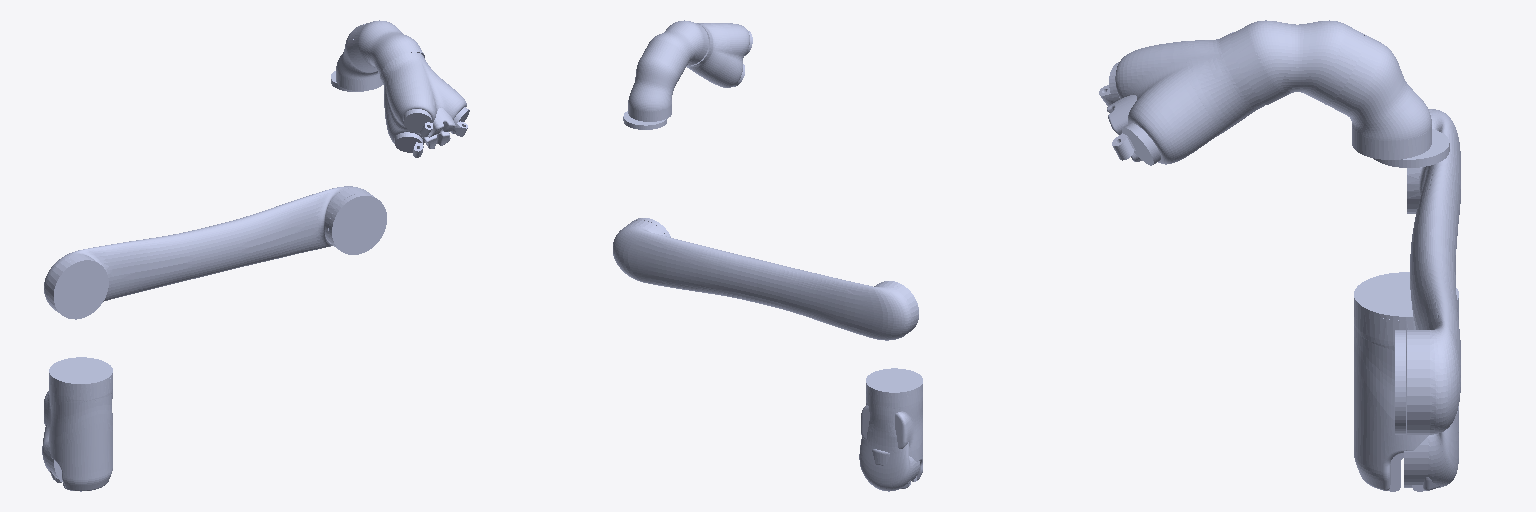
robot.urdf — jaco:
<?xml version="1.0" ?>
<!-- =================================================================================== -->
<!-- |    This document was autogenerated by xacro from standalone_jaco2.xacro         | -->
<!-- |    EDITING THIS FILE BY HAND IS NOT RECOMMENDED                                 | -->
<!-- =================================================================================== -->
<robot name="jaco" xmlns:body="http://playerstage.sourceforge.net/gazebo/xmlschema/#body" xmlns:controller="http://playerstage.sourceforge.net/gazebo/xmlschema/#controller" xmlns:gazebo="http://playerstage.sourceforge.net/gazebo/xmlschema/#gz" xmlns:geom="http://playerstage.sourceforge.net/gazebo/xmlschema/#geom" xmlns:interface="http://playerstage.sourceforge.net/gazebo/xmlschema/#interface" xmlns:joint="http://playerstage.sourceforge.net/gazebo/xmlschema/#joint" xmlns:model="http://playerstage.sourceforge.net/gazebo/xmlschema/#model" xmlns:physics="http://playerstage.sourceforge.net/gazebo/xmlschema/#physics" xmlns:renderable="http://playerstage.sourceforge.net/gazebo/xmlschema/#renderable" xmlns:rendering="http://playerstage.sourceforge.net/gazebo/xmlschema/#rendering" xmlns:sensor="http://playerstage.sourceforge.net/gazebo/xmlschema/#sensor" xmlns:xacro="http://ros.org/wiki/xacro" xmlns:xi="http://www.w3.org/2001/XInclude">
  <link name="root">
    <visual>
      <origin rpy="0 0 0" xyz="0 0 0"/>
      <geometry>
        <box size="0 0 0"/>
        <!--making it slightly bigger in x and z direction-->
      </geometry>
      <!--<material name="Black" /> -->
    </visual>
    <collision>
      <origin rpy="0 0 0" xyz="0 0 0"/>
      <geometry>
        <box size="0 0 0"/>
        <!--making it slightly bigger in x and z direction-->
      </geometry>
    </collision>
  </link>
  <link name="jaco2_link_base">
    <visual>
      <geometry>
        <mesh filename="package://kinova_description/meshes/jaco2_link_base.dae"/>
      </geometry>
      <material name="carbon_fiber">
        <color rgba="0.792156862745098 0.819607843137255 0.933333333333333 1"/>
      </material>
    </visual>
    <collision>
      <geometry>
        <mesh filename="package://kinova_description/meshes/jaco2_link_base.dae"/>
      </geometry>
    </collision>
  </link>
  <joint name="jaco2_joint_base" type="fixed">
    <parent link="root"/>
    <child link="jaco2_link_base"/>
    <axis xyz="0 0 0"/>
    <limit effort="30" lower="0" upper="0" velocity="0.35"/>
    <origin rpy="0 0 0" xyz="0 0 0"/>
  </joint>
  <link name="jaco2_link_1">
    <visual>
      <geometry>
        <mesh filename="package://kinova_description/meshes/jaco2_link_1.dae"/>
      </geometry>
      <material name="carbon_fiber">
        <color rgba="0.792156862745098 0.819607843137255 0.933333333333333 1"/>
      </material>
    </visual>
    <collision>
      <geometry>
        <mesh filename="package://kinova_description/meshes/jaco2_link_1.dae"/>
      </geometry>
    </collision>
  </link>
  <joint name="jaco2_joint_1" type="continuous">
    <parent link="jaco2_link_base"/>
    <child link="jaco2_link_1"/>
    <axis xyz="0 0 -1"/>
    <limit effort="30" lower="-6.28318530718" upper="6.28318530718" velocity="0.35"/>
    <origin rpy="0 0 0" xyz="0 0 0.1535"/>
  </joint>
  <link name="jaco2_link_2">
    <visual>
      <geometry>
        <mesh filename="package://kinova_description/meshes/jaco2_link_2.dae"/>
      </geometry>
      <material name="carbon_fiber">
        <color rgba="0.792156862745098 0.819607843137255 0.933333333333333 1"/>
      </material>
    </visual>
    <collision>
      <geometry>
        <mesh filename="package://kinova_description/meshes/jaco2_link_2.dae"/>
      </geometry>
    </collision>
  </link>
  <joint name="jaco2_joint_2" type="revolute">
    <parent link="jaco2_link_1"/>
    <child link="jaco2_link_2"/>
    <axis xyz="0 0 1"/>
    <limit effort="30" lower="-3.14159265359" upper="0.0" velocity="0.35"/>
    <origin rpy="1.57079632679 0 0" xyz="0 0 0.1185"/>
  </joint>
  <link name="jaco2_link_3">
    <visual>
      <geometry>
        <mesh filename="package://kinova_description/meshes/jaco2_link_3.dae"/>
      </geometry>
      <material name="carbon_fiber">
        <color rgba="0.792156862745098 0.819607843137255 0.933333333333333 1"/>
      </material>
    </visual>
    <collision>
      <geometry>
        <mesh filename="package://kinova_description/meshes/jaco2_link_3.dae"/>
      </geometry>
    </collision>
  </link>
  <joint name="jaco2_joint_3" type="revolute">
    <parent link="jaco2_link_2"/>
    <child link="jaco2_link_3"/>
    <axis xyz="0 0 -1"/>
    <limit effort="30" lower="-3.92699081699" upper="0.785398163397" velocity="0.35"/>
    <origin rpy="3.14159265359 0 1.57079632679" xyz="0.41 0 0"/>
  </joint>
  <link name="jaco2_link_4">
    <visual>
      <geometry>
        <mesh filename="package://kinova_description/meshes/jaco2_link_4.dae"/>
      </geometry>
      <material name="carbon_fiber">
        <color rgba="0.792156862745098 0.819607843137255 0.933333333333333 1"/>
      </material>
    </visual>
    <collision>
      <geometry>
        <mesh filename="package://kinova_description/meshes/jaco2_link_4.dae"/>
      </geometry>
    </collision>
  </link>
  <joint name="jaco2_joint_4" type="continuous">
    <parent link="jaco2_link_3"/>
    <child link="jaco2_link_4"/>
    <axis xyz="0 0 -1"/>
    <limit effort="30" lower="-6.28318530718" upper="6.28318530718" velocity="0.35"/>
    <origin rpy="3.14159265359 1.57079632679 0" xyz="0.207 0 -0.01125"/>
  </joint>
  <link name="jaco2_link_5">
    <visual>
      <geometry>
        <mesh filename="package://kinova_description/meshes/jaco2_link_5.dae"/>
      </geometry>
      <material name="carbon_fiber">
        <color rgba="0.792156862745098 0.819607843137255 0.933333333333333 1"/>
      </material>
    </visual>
    <collision>
      <geometry>
        <mesh filename="package://kinova_description/meshes/jaco2_link_5.dae"/>
      </geometry>
    </collision>
  </link>
  <joint name="jaco2_joint_5" type="continuous">
    <parent link="jaco2_link_4"/>
    <child link="jaco2_link_5"/>
    <axis xyz="0 0 -1"/>
    <limit effort="30" lower="-6.28318530718" upper="6.28318530718" velocity="0.35"/>
    <origin rpy="0 -1.0471975512 0" xyz="0.03700 0 -0.06408"/>
  </joint>
  <link name="jaco2_link_hand">
    <visual>
      <geometry>
        <mesh filename="package://kinova_description/meshes/jaco2_link_hand.dae"/>
      </geometry>
      <material name="carbon_fiber">
        <color rgba="0.792156862745098 0.819607843137255 0.933333333333333 1"/>
      </material>
    </visual>
    <collision>
      <geometry>
        <mesh filename="package://kinova_description/meshes/jaco2_link_hand.dae"/>
      </geometry>
    </collision>
  </link>
  <joint name="jaco2_joint_6" type="continuous">
    <parent link="jaco2_link_5"/>
    <child link="jaco2_link_hand"/>
    <axis xyz="0 0 -1"/>
    <limit effort="30" lower="-6.28318530718" upper="6.28318530718" velocity="0.35"/>
    <origin rpy="-1.0471975512 0 1.57079632679" xyz="0.03700 0 -0.06408"/>
  </joint>
  <joint name="jaco2_link_base_to_api_origin" type="fixed">
    <parent link="jaco2_link_base"/>
    <child link="jaco2_api_origin"/>
    <origin rpy="0 0 0" xyz="0 0 0.028"/>
  </joint>
  <link name="jaco2_api_origin">
    <!--
         <visual>
           <geometry>
             <box xyz="0 0 0" size="0.1 0.1 0.1"/>
           </geometry>
         </visual>
         <collision>
           <geometry>
             <box xyz="0 0 0" size="0.1 0.1 0.1"/>
           </geometry>
         </collision>
         -->
  </link>
  <joint name="jaco2_link_hand_to_end_effector" type="fixed">
    <parent link="jaco2_link_hand"/>
    <child link="jaco2_end_effector"/>
    <origin rpy="0 3.14159265359 0" xyz="0 0 -0.1687"/>
  </joint>
  <link name="jaco2_end_effector"/>
  <link name="jaco2_link_finger_1">
    <visual>
      <geometry>
        <mesh filename="package://kinova_description/meshes/jaco2_link_finger_1.dae"/>
      </geometry>
      <material name="carbon_fiber">
        <color rgba="0.792156862745098 0.819607843137255 0.933333333333333 1"/>
      </material>
    </visual>
    <collision>
      <geometry>
        <mesh filename="package://kinova_description/meshes/jaco2_link_finger_1.dae"/>
      </geometry>
    </collision>
  </link>
  <joint name="jaco2_joint_finger_1" type="revolute">
    <parent link="jaco2_link_hand"/>
    <child link="jaco2_link_finger_1"/>
    <axis xyz="0 0 1"/>
    <origin rpy="-1.7983 1.117 3.1416" xyz="-0.03978 0 -0.10071"/>
    <limit effort="30" lower="0" upper="0.698131700798" velocity="5"/>
  </joint>
  <link name="jaco2_link_finger_tip_1">
    <visual>
      <geometry>
        <mesh filename="package://kinova_description/meshes/jaco2_link_finger_tip_1.dae"/>
      </geometry>
      <material name="carbon_fiber">
        <color rgba="0.792156862745098 0.819607843137255 0.933333333333333 1"/>
      </material>
    </visual>
    <collision>
      <geometry>
        <mesh filename="package://kinova_description/meshes/jaco2_link_finger_tip_1.dae"/>
      </geometry>
    </collision>
  </link>
  <joint name="jaco2_joint_finger_tip_1" type="revolute">
    <parent link="jaco2_link_finger_1"/>
    <child link="jaco2_link_finger_tip_1"/>
    <axis xyz="0 0 1"/>
    <origin rpy="0 0 0" xyz="0.035 -0.02595 -0.0025"/>
    <limit effort="30" lower="0" upper="0.698131700798" velocity="5"/>
    <mimic joint="jaco2_joint_finger_1" multiplier="0.0" offset="0.0"/>
  </joint>
  <link name="jaco2_link_finger_2">
    <visual>
      <geometry>
        <mesh filename="package://kinova_description/meshes/jaco2_link_finger_2.dae"/>
      </geometry>
      <material name="carbon_fiber">
        <color rgba="0.792156862745098 0.819607843137255 0.933333333333333 1"/>
      </material>
    </visual>
    <collision>
      <geometry>
        <mesh filename="package://kinova_description/meshes/jaco2_link_finger_2.dae"/>
      </geometry>
    </collision>
  </link>
  <joint name="jaco2_joint_finger_2" type="revolute">
    <parent link="jaco2_link_hand"/>
    <child link="jaco2_link_finger_2"/>
    <axis xyz="0 0 1"/>
    <origin rpy="-1.6222 1.117 -0.23615" xyz="0.03569 -0.0216 -0.10071"/>
    <limit effort="30" lower="0" upper="0.698131700798" velocity="5"/>
  </joint>
  <link name="jaco2_link_finger_tip_2">
    <visual>
      <geometry>
        <mesh filename="package://kinova_description/meshes/jaco2_link_finger_tip_2.dae"/>
      </geometry>
      <material name="carbon_fiber">
        <color rgba="0.792156862745098 0.819607843137255 0.933333333333333 1"/>
      </material>
    </visual>
    <collision>
      <geometry>
        <mesh filename="package://kinova_description/meshes/jaco2_link_finger_tip_2.dae"/>
      </geometry>
    </collision>
  </link>
  <joint name="jaco2_joint_finger_tip_2" type="revolute">
    <parent link="jaco2_link_finger_2"/>
    <child link="jaco2_link_finger_tip_2"/>
    <axis xyz="0 0 1"/>
    <origin rpy="0 0 0" xyz="0.035 -0.02595 -0.0025"/>
    <limit effort="30" lower="0" upper="0.698131700798" velocity="5"/>
    <mimic joint="jaco2_joint_finger_2" multiplier="0.0" offset="0.0"/>
  </joint>
  <link name="jaco2_link_finger_3">
    <visual>
      <geometry>
        <mesh filename="package://kinova_description/meshes/jaco2_link_finger_3.dae"/>
      </geometry>
      <material name="carbon_fiber">
        <color rgba="0.792156862745098 0.819607843137255 0.933333333333333 1"/>
      </material>
    </visual>
    <collision>
      <geometry>
        <mesh filename="package://kinova_description/meshes/jaco2_link_finger_3.dae"/>
      </geometry>
    </collision>
  </link>
  <joint name="jaco2_joint_finger_3" type="revolute">
    <parent link="jaco2_link_hand"/>
    <child link="jaco2_link_finger_3"/>
    <axis xyz="0 0 1"/>
    <origin rpy="-1.5161 1.1459 0.23978" xyz="0.03569 0.0216 -0.10071"/>
    <limit effort="30" lower="0" upper="0.698131700798" velocity="5"/>
  </joint>
  <link name="jaco2_link_finger_tip_3">
    <visual>
      <geometry>
        <mesh filename="package://kinova_description/meshes/jaco2_link_finger_tip_3.dae"/>
      </geometry>
      <material name="carbon_fiber">
        <color rgba="0.792156862745098 0.819607843137255 0.933333333333333 1"/>
      </material>
    </visual>
    <collision>
      <geometry>
        <mesh filename="package://kinova_description/meshes/jaco2_link_finger_tip_3.dae"/>
      </geometry>
    </collision>
  </link>
  <joint name="jaco3_joint_finger_tip_3" type="revolute">
    <parent link="jaco2_link_finger_3"/>
    <child link="jaco2_link_finger_tip_3"/>
    <axis xyz="0 0 1"/>
    <origin rpy="0 0 0" xyz="0.035 -0.02595 -0.0025"/>
    <limit effort="30" lower="0" upper="0.698131700798" velocity="5"/>
    <mimic joint="jaco2_joint_finger_3" multiplier="0.0" offset="0.0"/>
  </joint>
</robot>

--- Facts derived from the render (not from the file) ---
3 views of the same robot in one strip: view 1: azimuth 30°, elevation 25°; view 2: azimuth 150°, elevation 25°; view 3: azimuth 270°, elevation 25° (orthographic).
Model jaco with 16 links and 15 joints (8 revolute, 4 continuous, 3 fixed), rooted at root, posed all joints at 0.
Visible links, largest first — view 1: jaco2_link_2, jaco2_link_base, jaco2_link_hand, jaco2_link_3, jaco2_link_5, jaco2_link_4, jaco2_link_1; view 2: jaco2_link_2, jaco2_link_base, jaco2_link_1, jaco2_link_4, jaco2_link_hand, jaco2_link_5; view 3: jaco2_link_hand, jaco2_link_2, jaco2_link_base, jaco2_link_5, jaco2_link_4, jaco2_link_1, jaco2_link_3.
Link boxes in pixels (x1,y1,x2,y2): jaco2_link_2: [44, 186, 372, 319]; jaco2_link_base: [44, 357, 112, 491]; jaco2_link_hand: [380, 52, 469, 157]; jaco2_link_3: [329, 71, 386, 254]; jaco2_link_5: [353, 20, 424, 74]; jaco2_link_4: [336, 23, 382, 90]; jaco2_link_1: [42, 376, 112, 481]; jaco2_link_2: [613, 220, 918, 340]; jaco2_link_base: [861, 368, 922, 488]; jaco2_link_1: [859, 385, 919, 491]; jaco2_link_4: [628, 49, 682, 121]; jaco2_link_hand: [686, 23, 752, 87]; jaco2_link_5: [645, 20, 708, 73]; jaco2_link_hand: [1099, 32, 1265, 165]; jaco2_link_2: [1407, 109, 1460, 434]; jaco2_link_base: [1354, 272, 1458, 491]; jaco2_link_5: [1230, 20, 1364, 104]; jaco2_link_4: [1328, 34, 1431, 159]; jaco2_link_1: [1354, 302, 1458, 487]; jaco2_link_3: [1373, 129, 1449, 434].
Size in the robot's own frame: 0.5035 by 0.2845 by 0.5884 metres.
7 mesh visuals loaded from 13 distinct referenced files (7 Collada DAE); not drawn: 6 (reference not matched to a file when rendering).